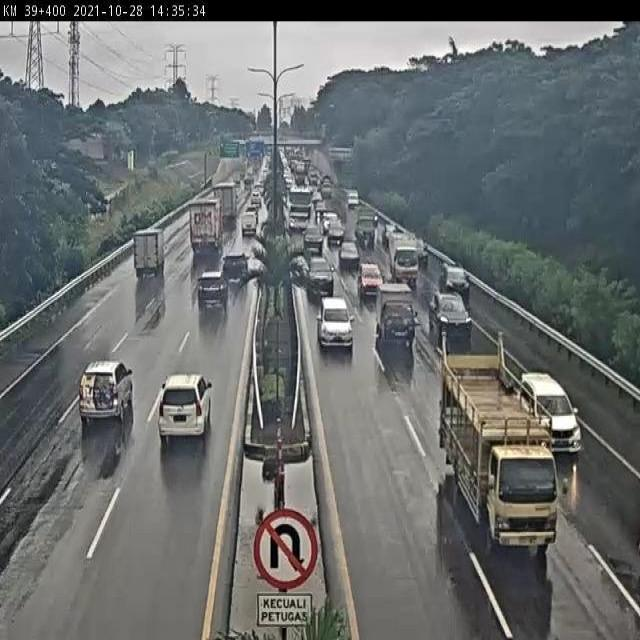big truck: (188, 200, 225, 257), (213, 181, 237, 224), (287, 184, 312, 224)
car: (519, 370, 583, 454), (158, 373, 218, 451), (82, 360, 141, 425), (430, 292, 472, 340), (379, 285, 413, 343), (318, 295, 352, 345), (195, 272, 228, 308), (221, 250, 249, 286), (357, 260, 384, 296), (438, 266, 468, 298), (308, 258, 333, 294), (235, 216, 258, 243), (339, 240, 359, 267), (304, 224, 325, 247), (410, 232, 426, 259), (244, 208, 261, 227), (248, 193, 262, 211), (331, 228, 344, 247), (324, 211, 335, 225)
small truck: (440, 351, 558, 548), (133, 228, 167, 281), (386, 235, 419, 282), (355, 210, 375, 242)
